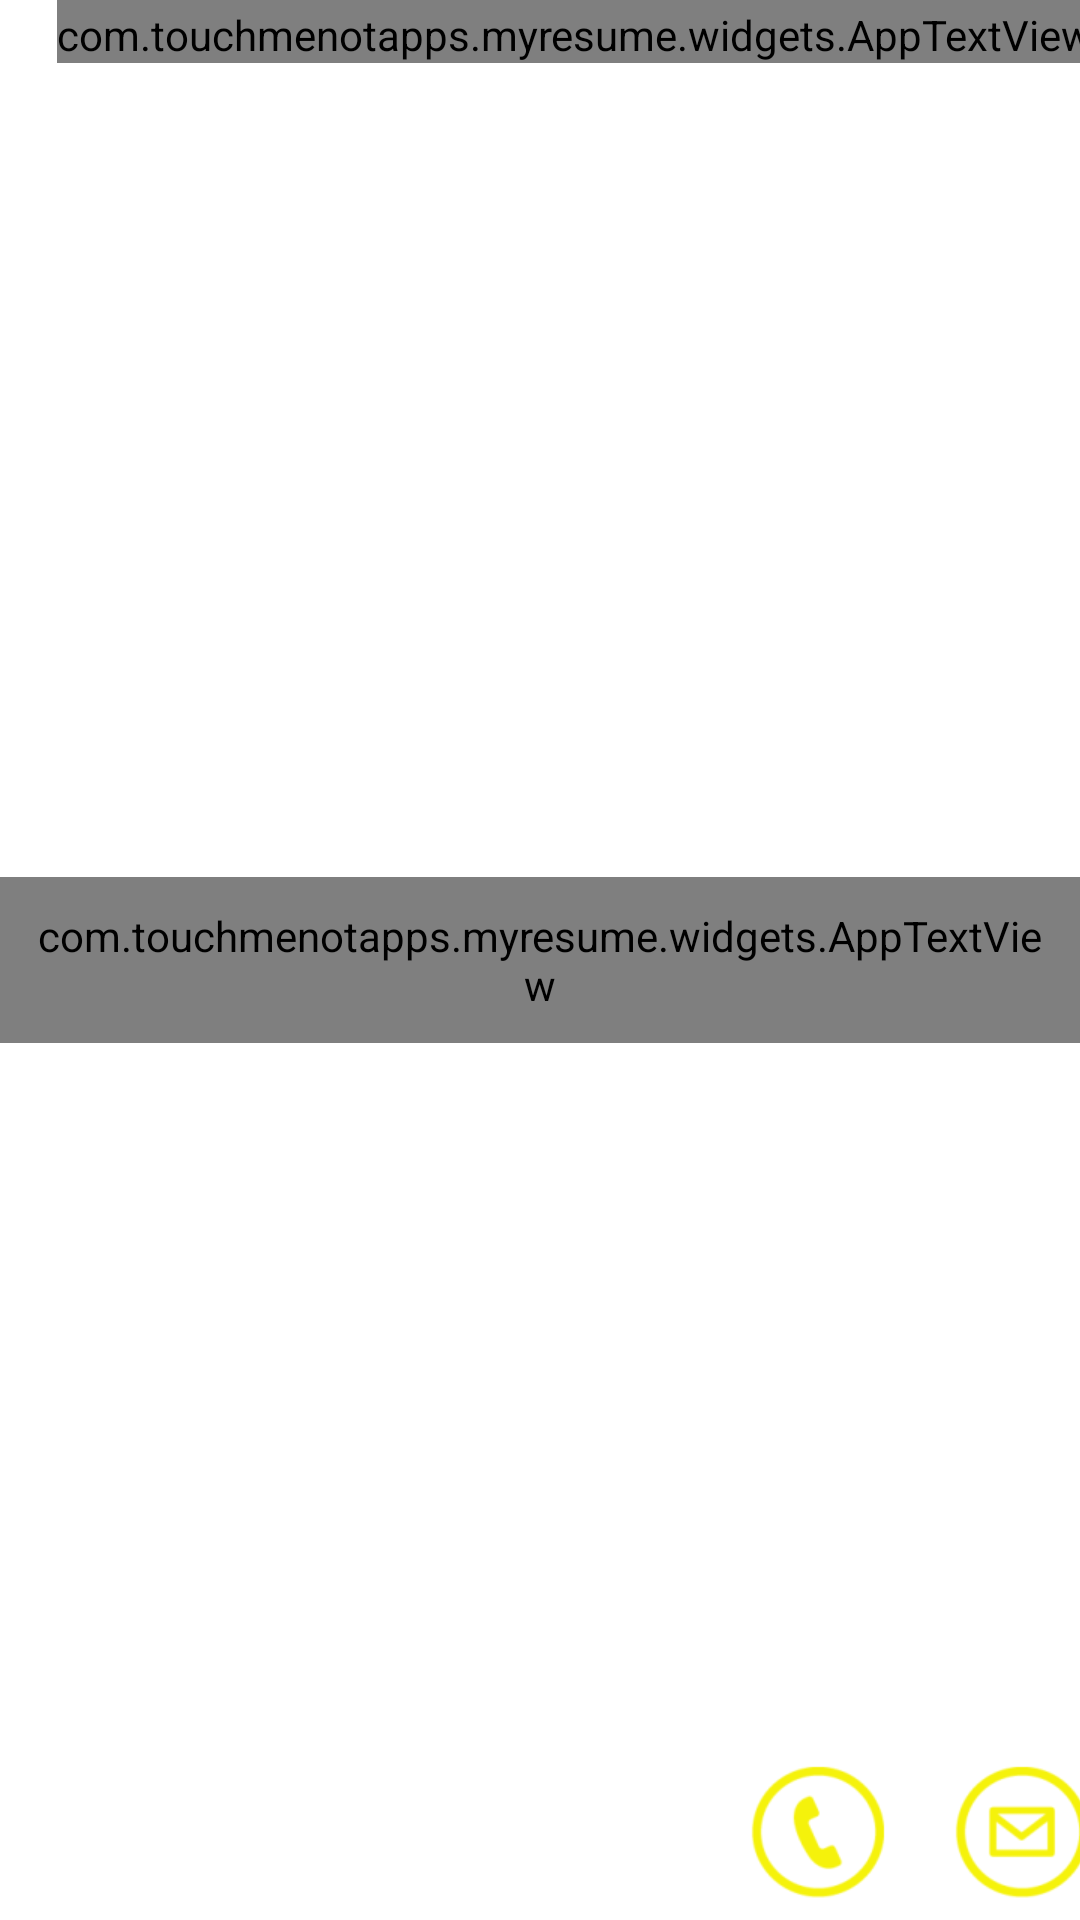

Icon click points for this 1080*1920 phone screenshot, format (x,y):
Call Me: (818,1832)
Mail Me: (1017,1832)
